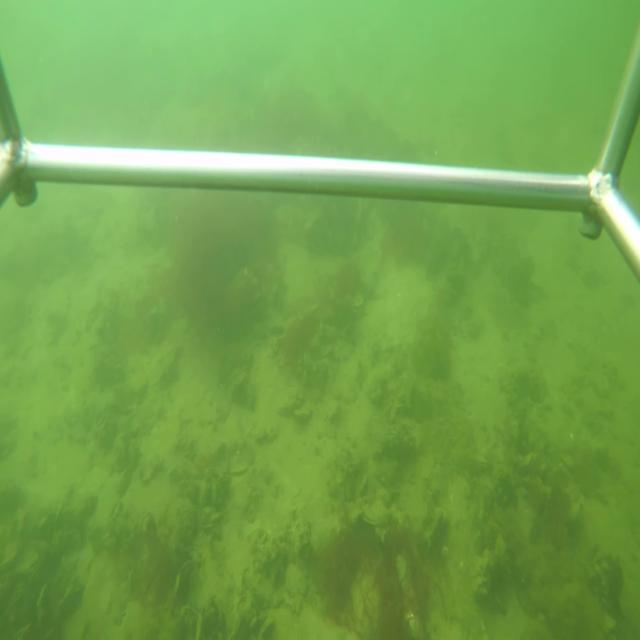Oyster-Closed: (357, 502, 390, 526)
